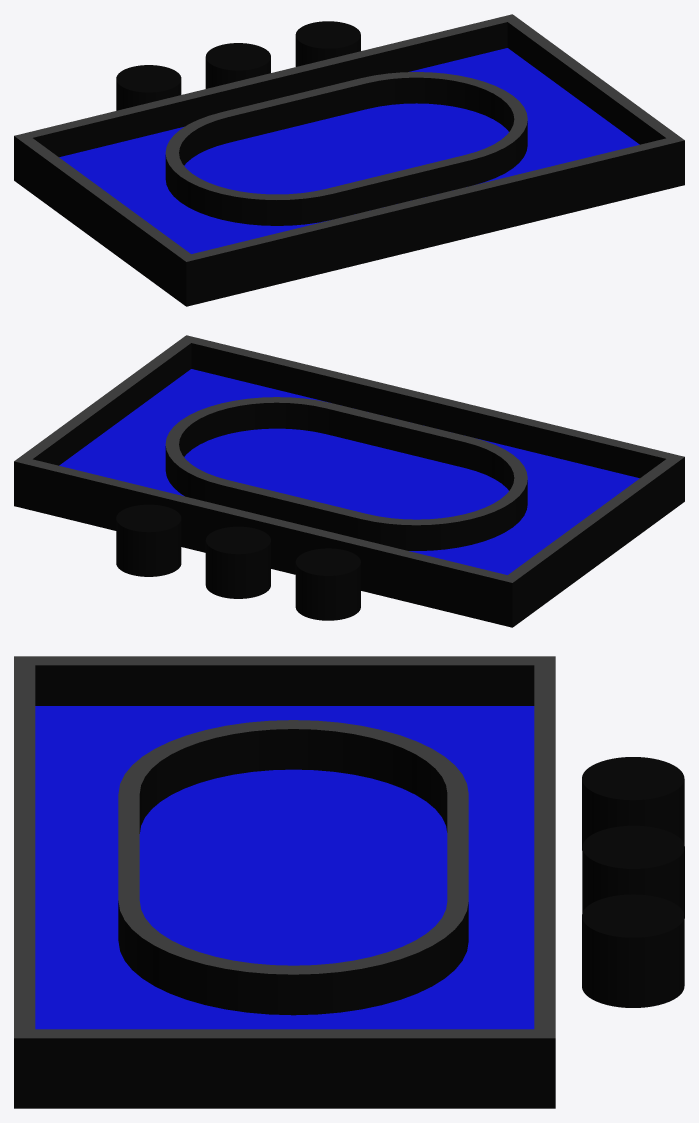
File: ORBAT_FIRENDLY_Armoured_ooo.dae
The picture shows the model from 3 angles, top to bottom: view 1: azimuth 30°, elevation 25°; view 2: azimuth 150°, elevation 25°; view 3: azimuth 270°, elevation 25°; orthographic projection. The views are drawn at different scales.
Parts seen in each view (by area): view 1: SM_ORBAT_-_6_path1763-2.252; view 2: SM_ORBAT_-_6_path1763-2.252; view 3: SM_ORBAT_-_6_path1763-2.252.
Part boxes in pixels (x1,y1,x2,y2): SM_ORBAT_-_6_path1763-2.252: (14, 14, 684, 306); SM_ORBAT_-_6_path1763-2.252: (14, 335, 684, 627); SM_ORBAT_-_6_path1763-2.252: (14, 656, 684, 1108).
Size of the model in its own units: 1.21 by 0.8948 by 0.1034.
